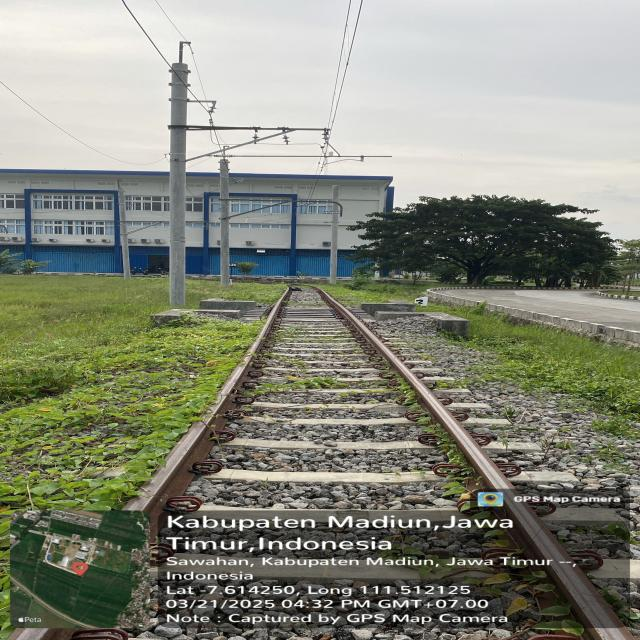rail-detection: (311, 286, 634, 640), (122, 287, 292, 544)
